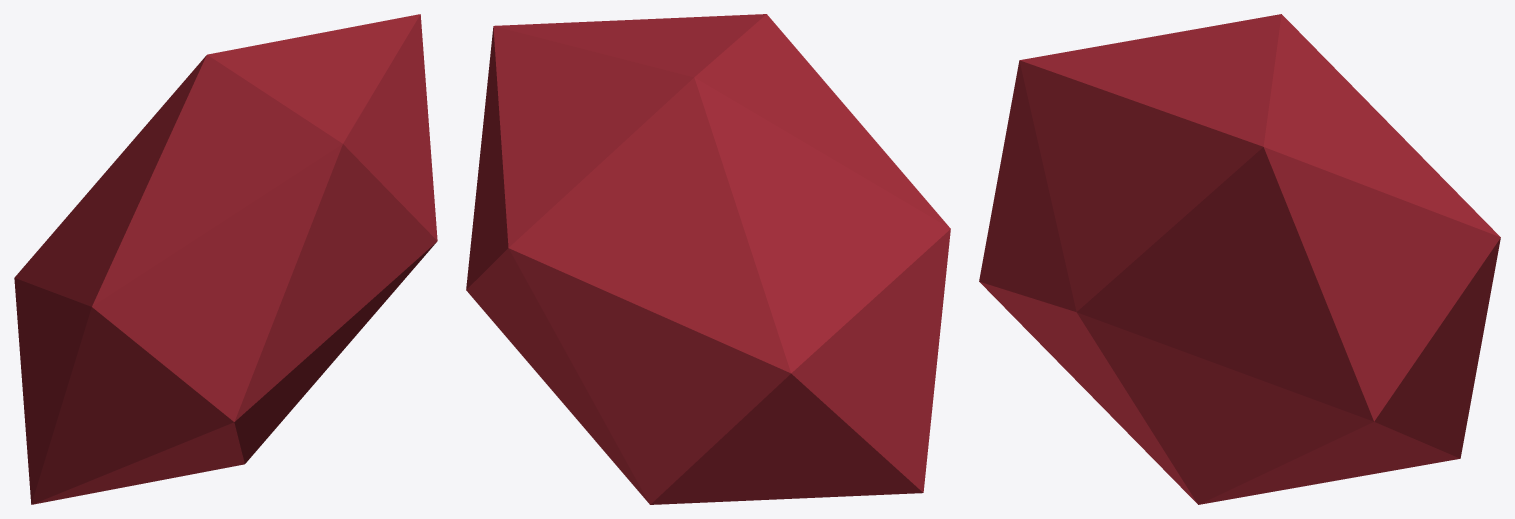
File: gore_12.glb
3 renders of one model, left to right at view 1: azimuth 30°, elevation 25°; view 2: azimuth 150°, elevation 25°; view 3: azimuth 270°, elevation 25°, orthographic. The views are drawn at different scales.
Visible parts, largest first — view 1: CHUNK; view 2: CHUNK; view 3: CHUNK.
Boxes of the visible parts, box(x1,y1,x2,y2) form: CHUNK: box(14, 14, 437, 504); CHUNK: box(466, 14, 950, 504); CHUNK: box(979, 14, 1500, 504).
Size of the model in its own units: 0.0673 by 0.0609 by 0.0591.
